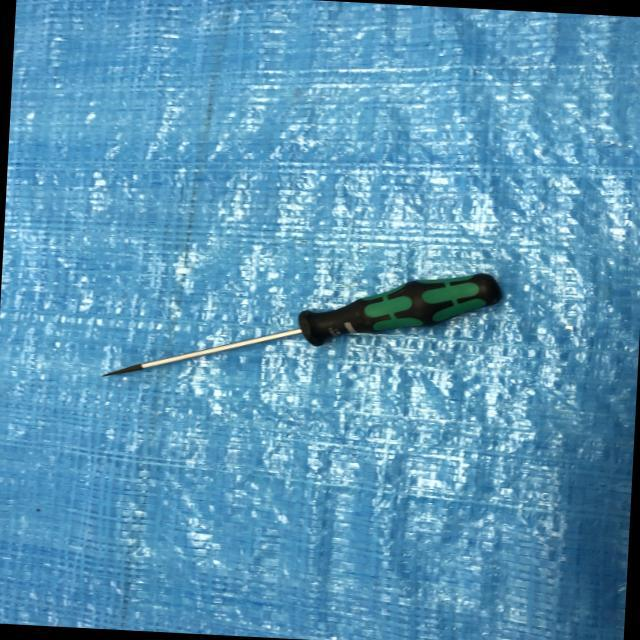screwdriver: (90, 250, 509, 414)
